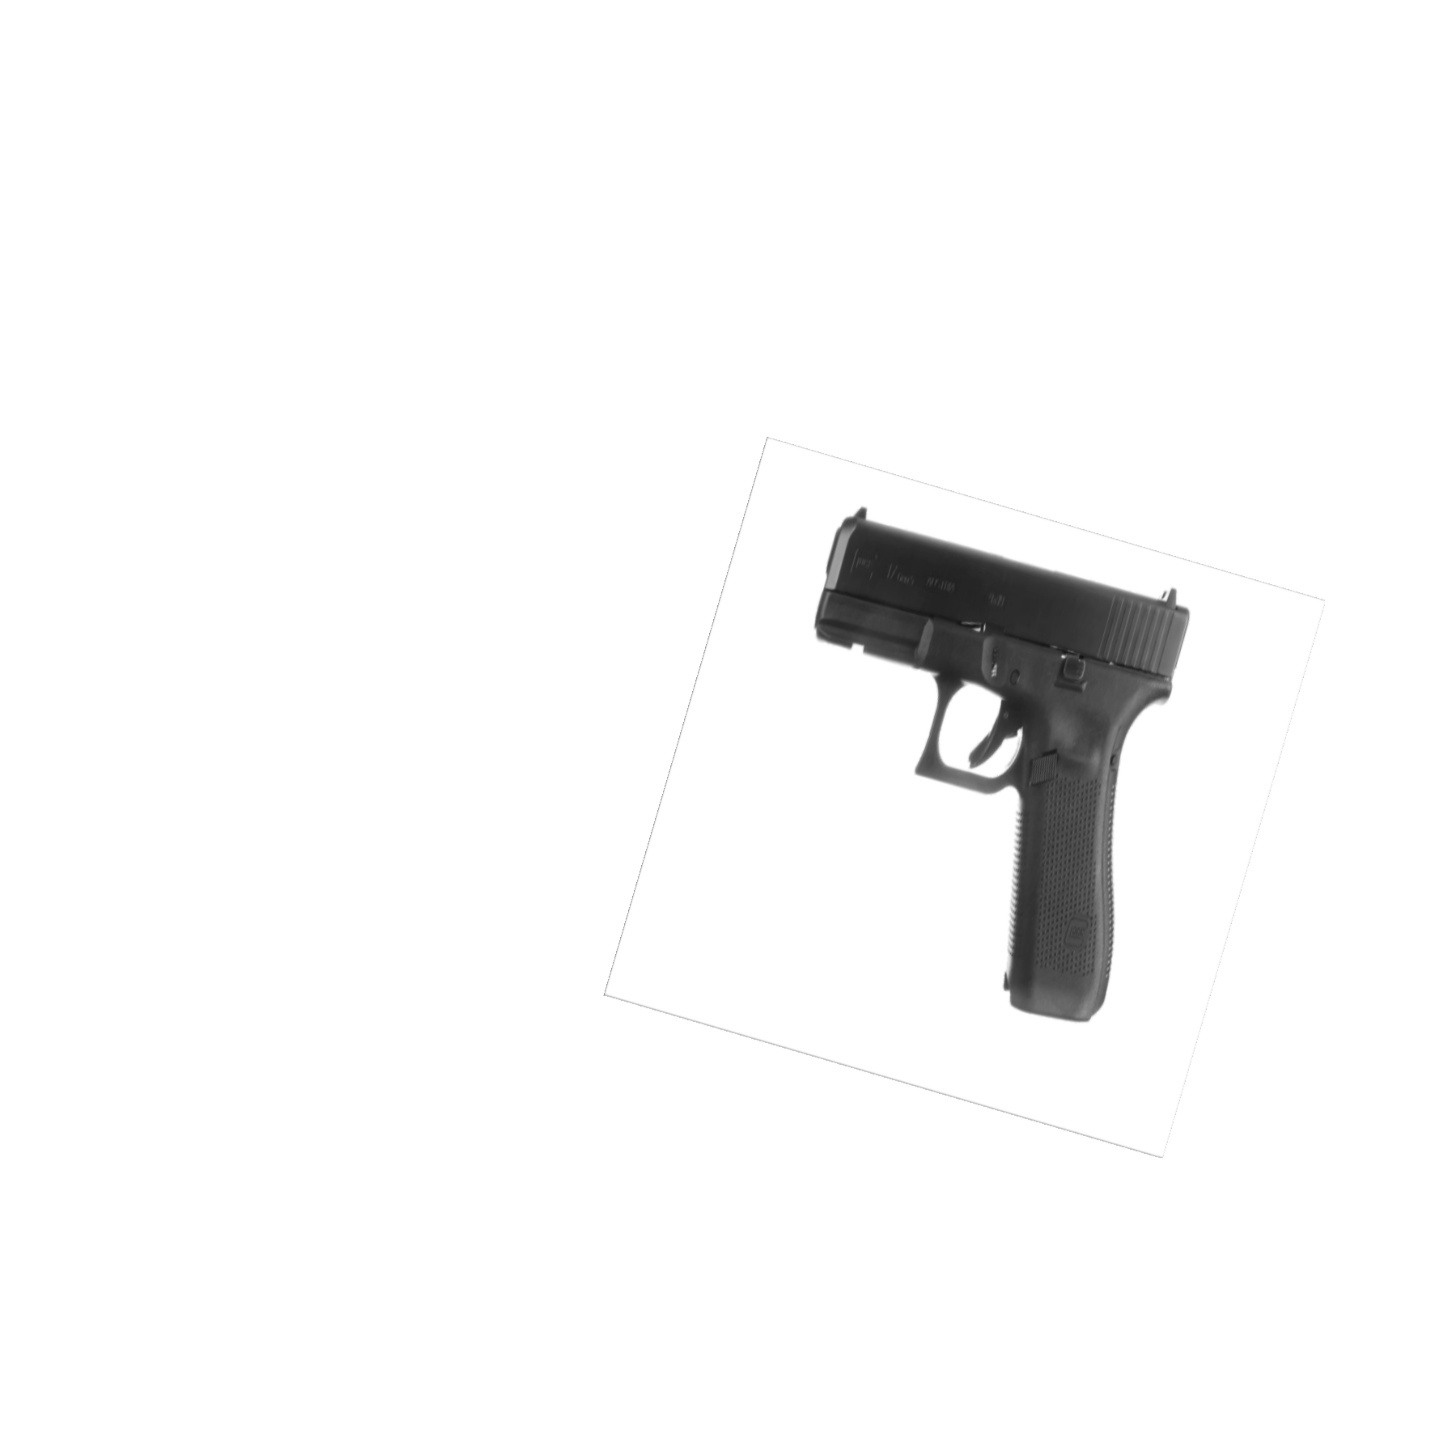gun: (806, 506, 1197, 1038)
